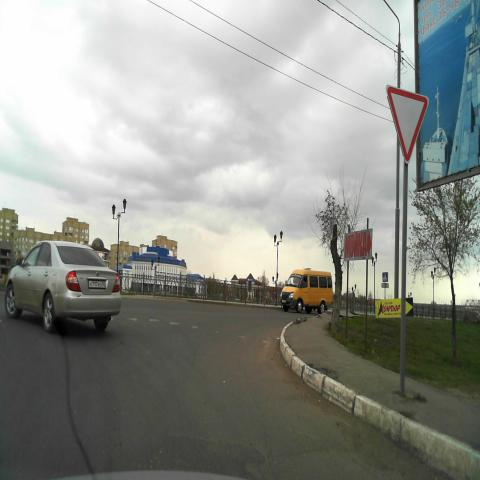2_4: (386, 82, 428, 163)
5_19_1: (382, 272, 388, 282)
